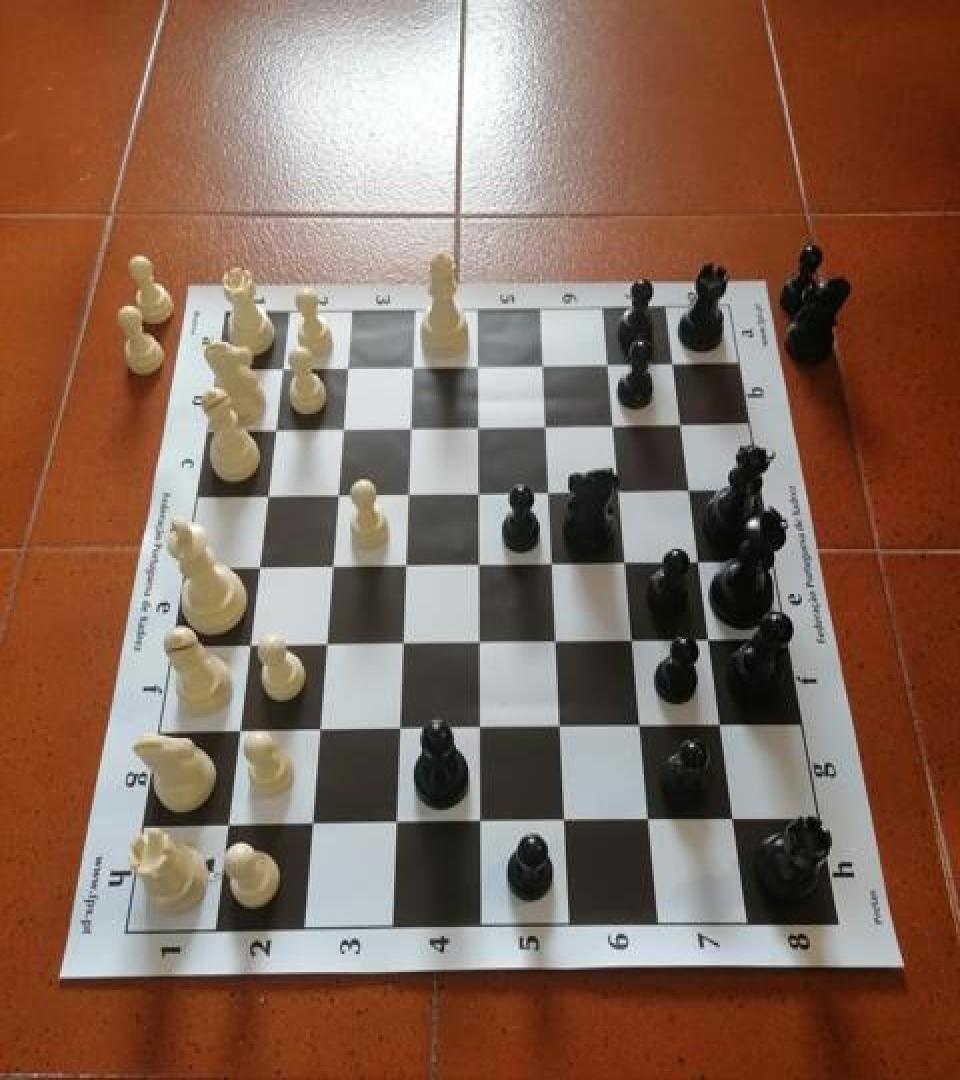xcorner: (659, 346, 689, 380), (594, 348, 624, 382), (528, 348, 558, 382), (463, 348, 493, 382), (398, 350, 428, 384), (332, 351, 362, 385), (267, 352, 297, 386), (667, 408, 697, 442), (599, 408, 629, 442), (531, 410, 561, 444), (463, 410, 493, 444), (395, 412, 425, 446), (327, 412, 357, 446), (260, 413, 290, 447), (534, 476, 564, 510), (463, 477, 493, 511), (393, 478, 423, 512), (322, 478, 352, 512), (251, 479, 281, 513), (685, 546, 715, 580), (611, 546, 641, 580), (538, 548, 568, 582), (464, 549, 494, 583), (390, 549, 420, 583), (316, 550, 346, 584), (243, 551, 273, 585), (696, 624, 726, 658), (618, 626, 648, 660), (541, 626, 571, 660), (464, 626, 494, 660), (310, 629, 340, 663), (233, 630, 263, 664), (707, 710, 737, 744), (626, 711, 656, 745), (545, 712, 575, 746), (464, 713, 494, 747), (384, 713, 414, 747), (303, 714, 333, 748), (719, 804, 749, 838), (634, 806, 664, 840), (550, 806, 580, 840), (465, 806, 495, 840), (380, 808, 410, 842), (296, 809, 326, 843), (211, 810, 241, 844), (676, 475, 706, 508), (605, 475, 635, 508), (387, 628, 417, 661), (223, 716, 253, 749)
